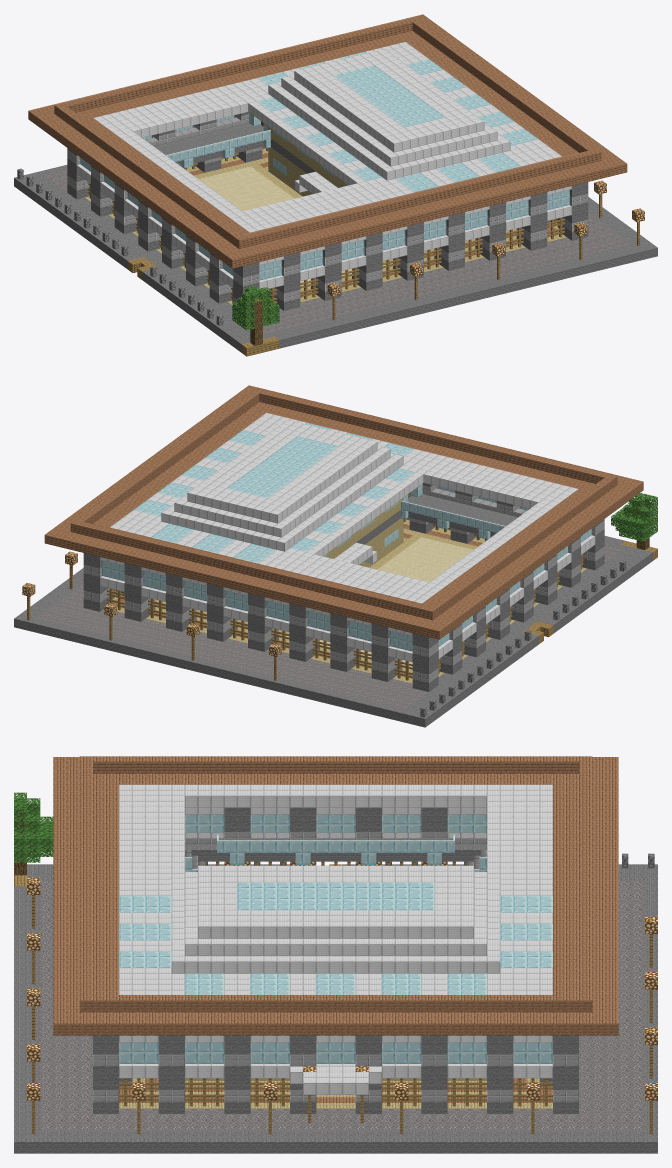
Rendered from Mineways2Skfb.obj.
3 renders of one model, top to bottom at view 1: azimuth 30°, elevation 25°; view 2: azimuth 150°, elevation 25°; view 3: azimuth 270°, elevation 25°, orthographic. The views are drawn at different scales.
Parts seen in each view (by area): view 1: Oak_Planks, Block_of_Iron, Stone, Glass, Gravel, Double_Stone_Slab, Glass_Pane, Fence, Sand, Cobblestone_Wall, Oak_Leaves, Glowstone (+2 smaller); view 2: Oak_Planks, Block_of_Iron, Stone, Gravel, Glass, Double_Stone_Slab, Glass_Pane, Fence, Sand, Oak_Leaves, Cobblestone_Wall, Glowstone (+1 smaller); view 3: Oak_Planks, Block_of_Iron, Stone, Gravel, Glass, Glass_Pane, Double_Stone_Slab, Fence, Glowstone, Oak_Leaves, Stone_Slab.
Part boxes in pixels (bbox=[...]): Oak_Planks: bbox=[28, 14, 627, 356]; Block_of_Iron: bbox=[76, 42, 571, 288]; Stone: bbox=[14, 112, 657, 352]; Glass: bbox=[249, 52, 537, 192]; Gravel: bbox=[43, 148, 631, 334]; Double_Stone_Slab: bbox=[67, 114, 588, 308]; Glass_Pane: bbox=[80, 115, 569, 280]; Fence: bbox=[88, 146, 639, 320]; Sand: bbox=[199, 166, 385, 293]; Cobblestone_Wall: bbox=[17, 168, 223, 325]; Oak_Leaves: bbox=[232, 285, 279, 330]; Glowstone: bbox=[327, 180, 644, 296]; Oak_Planks: bbox=[44, 385, 657, 683]; Block_of_Iron: bbox=[100, 413, 595, 662]; Stone: bbox=[14, 483, 653, 727]; Gravel: bbox=[35, 519, 623, 709]; Glass: bbox=[134, 423, 422, 563]; Double_Stone_Slab: bbox=[83, 485, 604, 683]; Glass_Pane: bbox=[102, 486, 591, 651]; Fence: bbox=[27, 517, 583, 680]; Sand: bbox=[286, 537, 472, 667]; Oak_Leaves: bbox=[611, 493, 657, 541]; Cobblestone_Wall: bbox=[420, 560, 626, 717]; Glowstone: bbox=[22, 551, 281, 656]; Oak_Planks: bbox=[14, 756, 618, 1108]; Block_of_Iron: bbox=[119, 784, 552, 1094]; Stone: bbox=[14, 807, 657, 1153]; Gravel: bbox=[40, 881, 644, 1130]; Glass: bbox=[119, 882, 552, 994]; Glass_Pane: bbox=[119, 815, 552, 1063]; Double_Stone_Slab: bbox=[93, 832, 578, 1102]; Fence: bbox=[32, 861, 652, 1134]; Glowstone: bbox=[27, 861, 657, 1100]; Oak_Leaves: bbox=[14, 792, 53, 862]; Stone_Slab: bbox=[185, 832, 486, 844].
Size of the model in its own units: 3.85 by 1 by 3.77.
25 materials, 25 textured.
